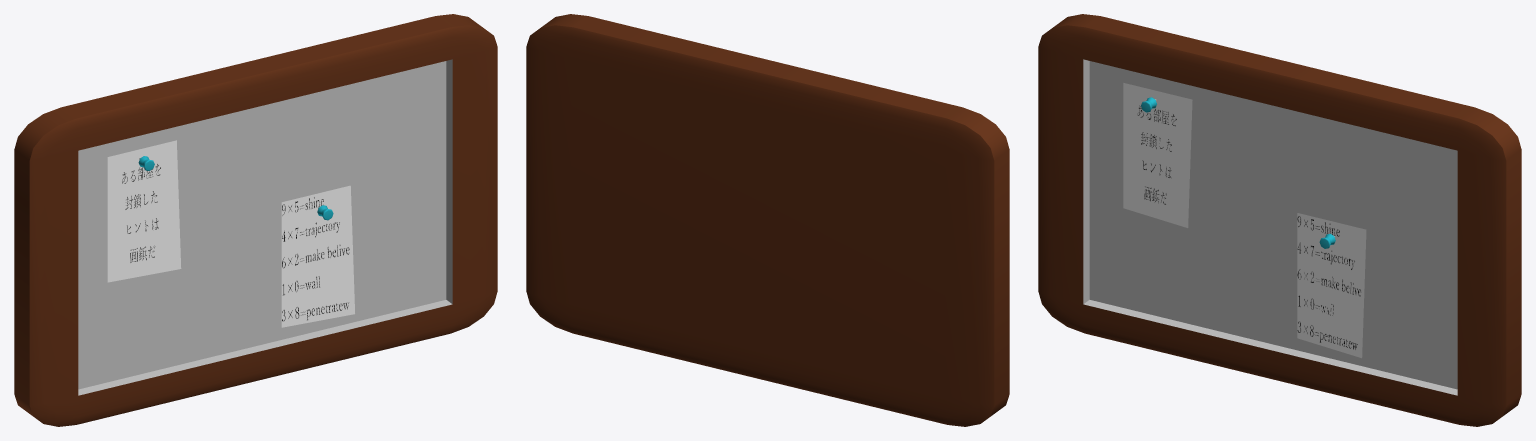
The model's file is keigi1.fbx.
3 renders of one model, left to right at view 1: azimuth 30°, elevation 25°; view 2: azimuth 150°, elevation 25°; view 3: azimuth 330°, elevation 25°, orthographic.
Visible parts, largest first — view 1: obj1, obj2, obj4; view 2: obj1; view 3: obj1, obj2, obj4.
Boxes of the visible parts, box(x1,y1,x2,y2) form: obj1: box(14, 14, 497, 426); obj2: box(107, 140, 181, 282); obj4: box(281, 185, 354, 327); obj1: box(526, 14, 1009, 426); obj1: box(1038, 14, 1521, 426); obj2: box(1123, 83, 1192, 227); obj4: box(1297, 213, 1366, 358).
Size of the model in its own units: 195 by 122 by 17.05.
